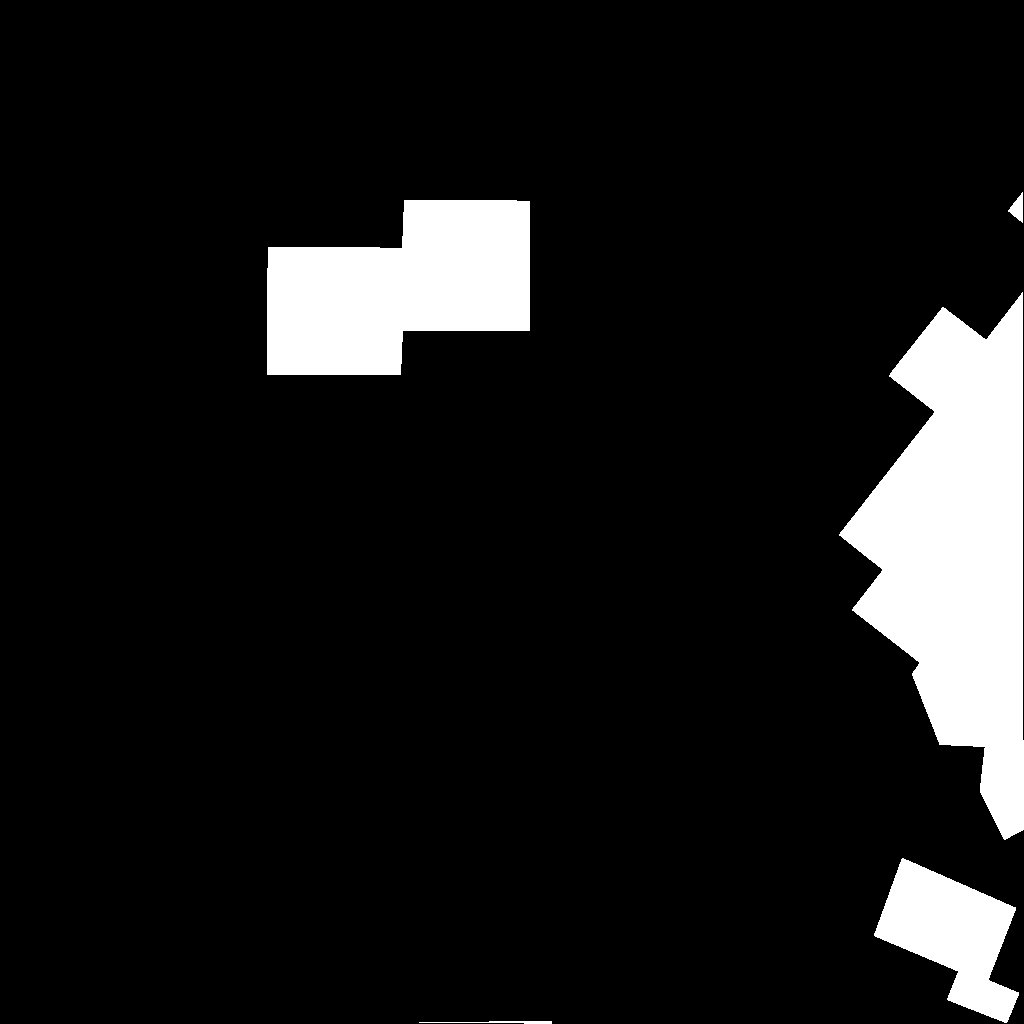building: (839, 192, 1024, 841), (267, 200, 531, 375), (874, 858, 1020, 1024), (384, 1021, 553, 1024)
